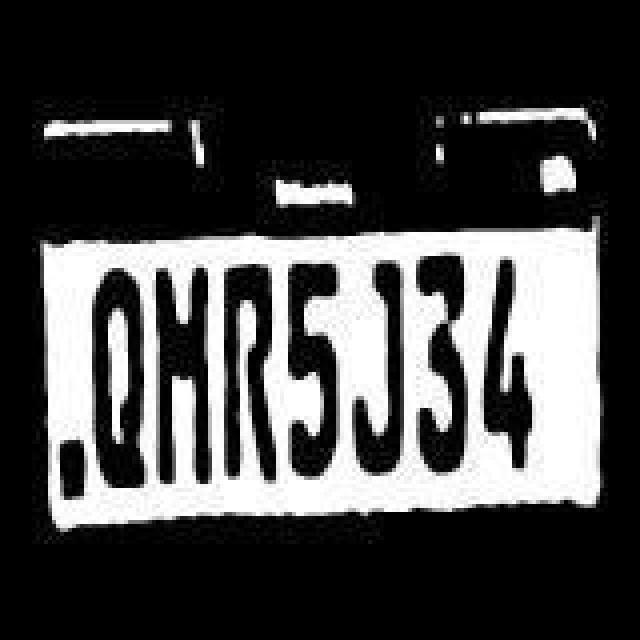3: (412, 252, 468, 476)
4: (478, 252, 538, 476)
5: (284, 246, 340, 490)
J: (350, 250, 410, 486)
M: (154, 262, 214, 490)
Q: (90, 260, 150, 492)
R: (220, 264, 276, 488)
